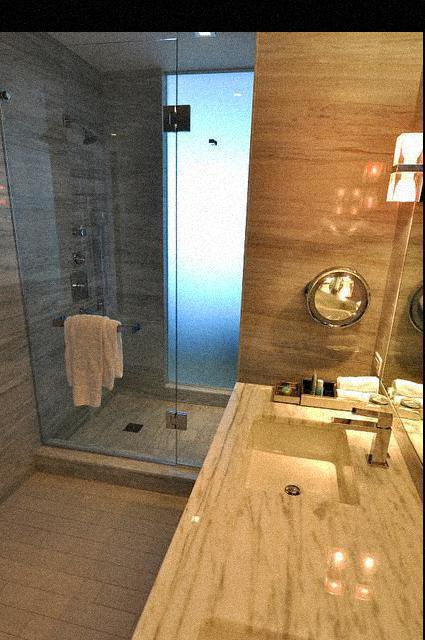Ducha: (0, 35, 245, 491)
Lavamanos: (241, 395, 404, 515), (189, 610, 396, 640)
